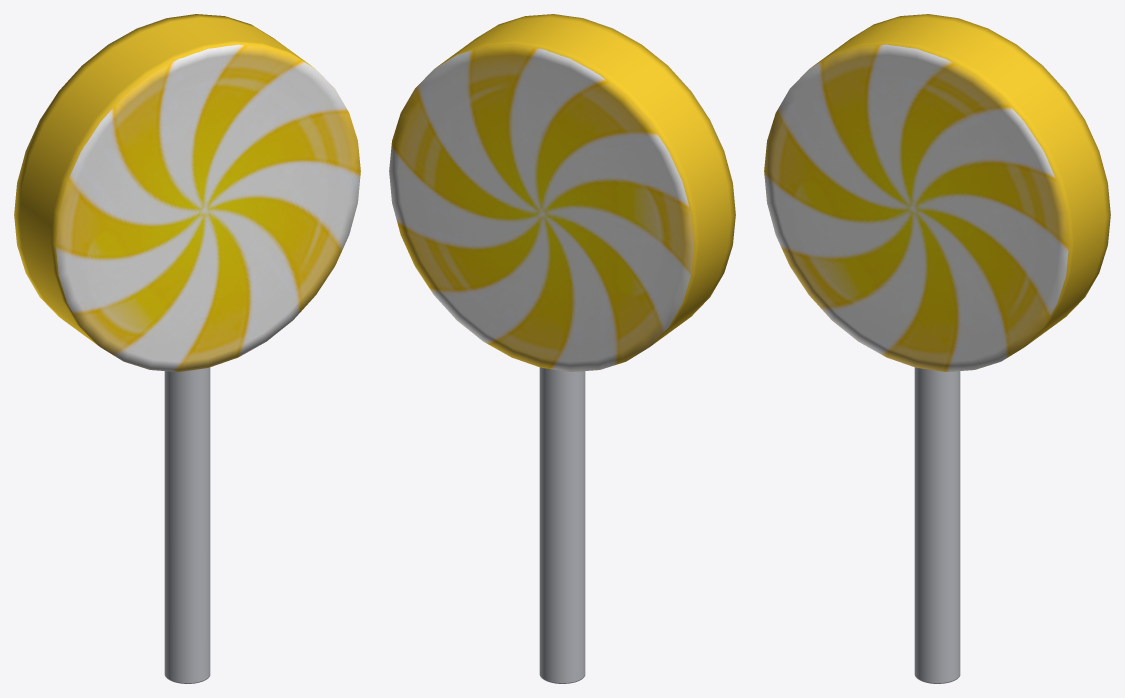
Rendered from lollipop_trap3.fbx.
3 views of the same model, side by side, from view 1: azimuth 30°, elevation 25°; view 2: azimuth 150°, elevation 25°; view 3: azimuth 330°, elevation 25° (orthographic).
Parts seen in each view (by area): view 1: lollipop_trap3; view 2: lollipop_trap3; view 3: lollipop_trap3.
Part boxes in pixels (<box>): lollipop_trap3: <box>14,14,360,683</box>; lollipop_trap3: <box>389,14,735,683</box>; lollipop_trap3: <box>764,14,1110,683</box>.
Size of the model in its own units: 1.82 by 3.65 by 0.4327.
Materials: 2 (2 with a texture image).
